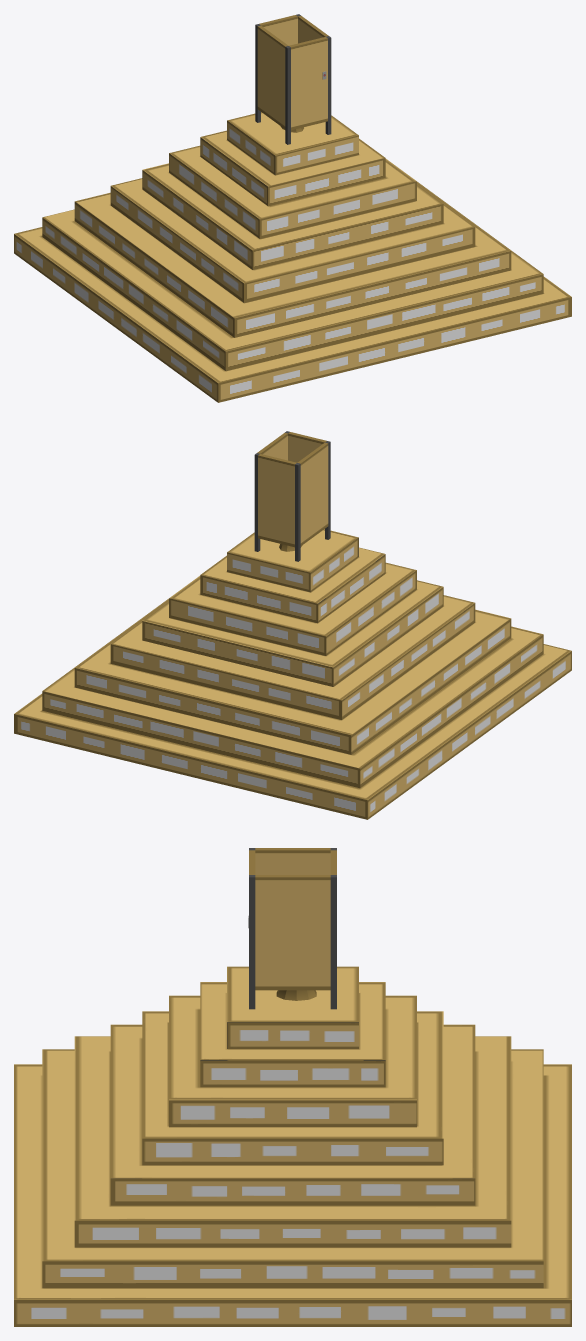
File: building_holyseat.fbx
The picture shows the model from 3 angles, top to bottom: view 1: azimuth 30°, elevation 25°; view 2: azimuth 150°, elevation 25°; view 3: azimuth 270°, elevation 25°; orthographic projection. The views are drawn at different scales.
Parts seen in each view (by area): view 1: holyseat; view 2: holyseat; view 3: holyseat.
Part boxes in pixels (box(x1,y1,x2,y2)): holyseat: box(14, 14, 571, 402); holyseat: box(14, 431, 571, 819); holyseat: box(14, 848, 571, 1326).
Size of the model in its own units: 23.92 by 16.4 by 23.92.
Materials: 1 (1 with a texture image).
